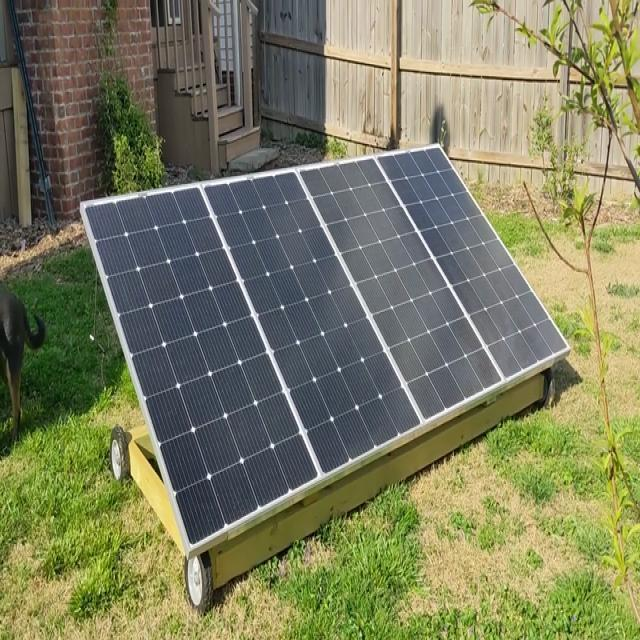Normal Solar Panel: (82, 140, 568, 551)
